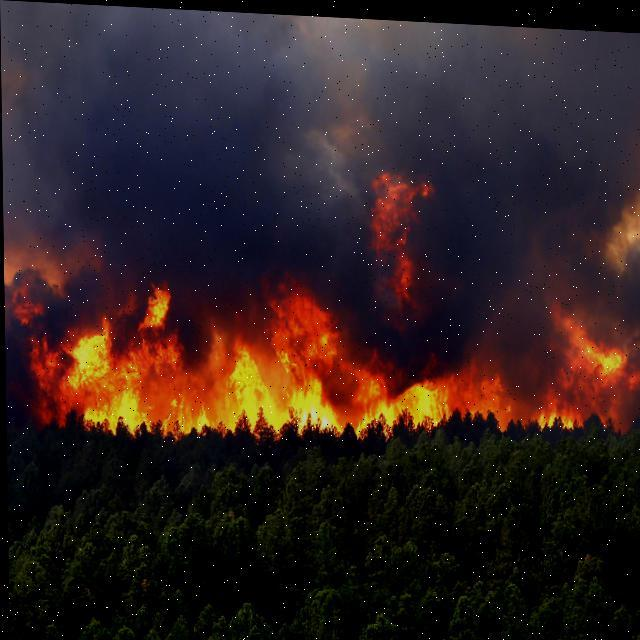Fire: (5, 152, 639, 447)
